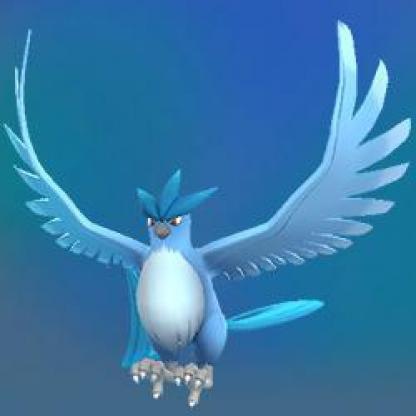Articuno: (1, 39, 416, 416)
